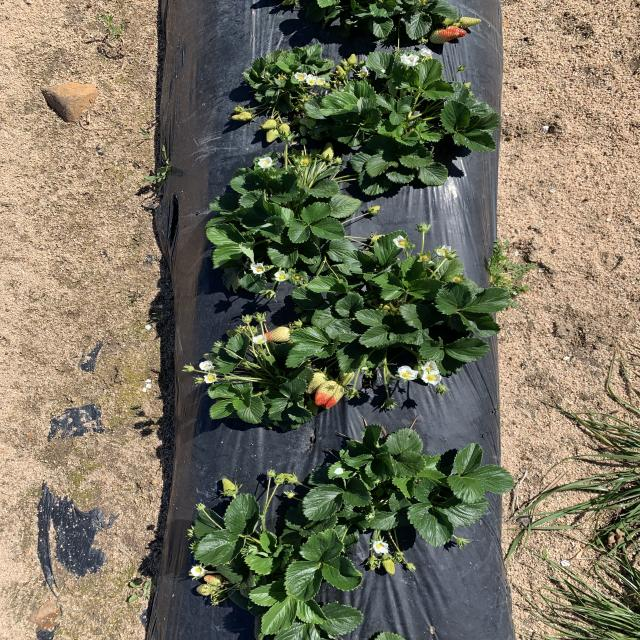unripe: (446, 25, 469, 39)
